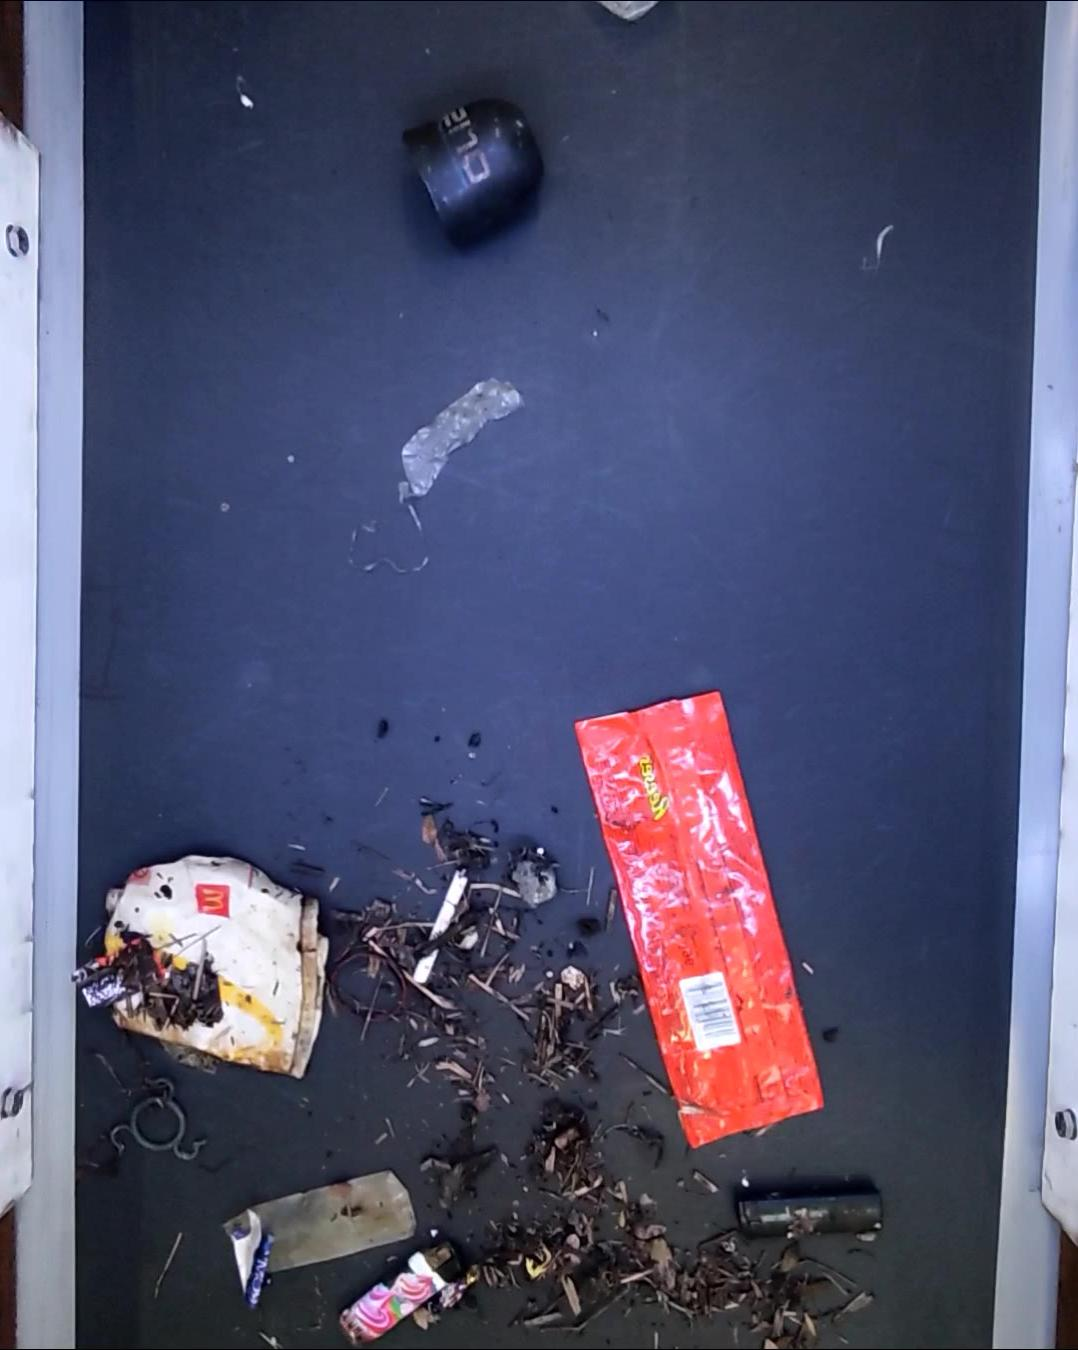Plastic folies of stukken daarvan 2.5- 50 cm: (226, 1175, 415, 1285), (395, 376, 526, 509)
Snoep snack en chips verpakkingen: (565, 690, 823, 1149), (71, 941, 157, 1011), (411, 1267, 486, 1332), (231, 1211, 277, 1307)
